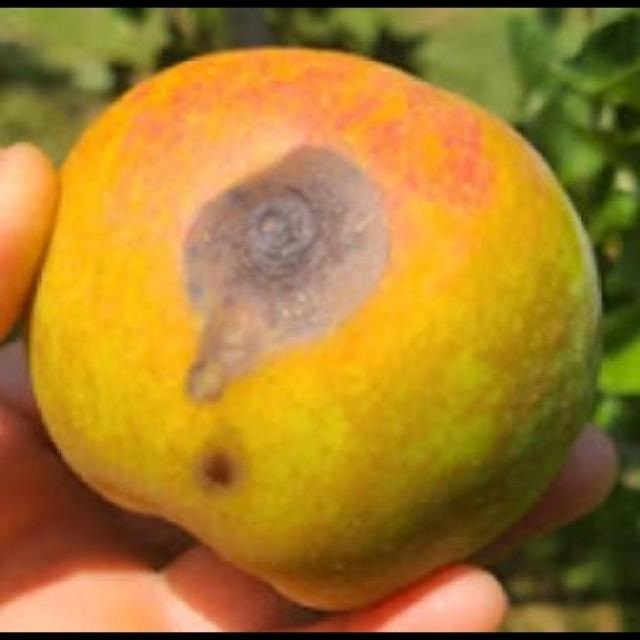Rotten Apple: (22, 40, 609, 615)
